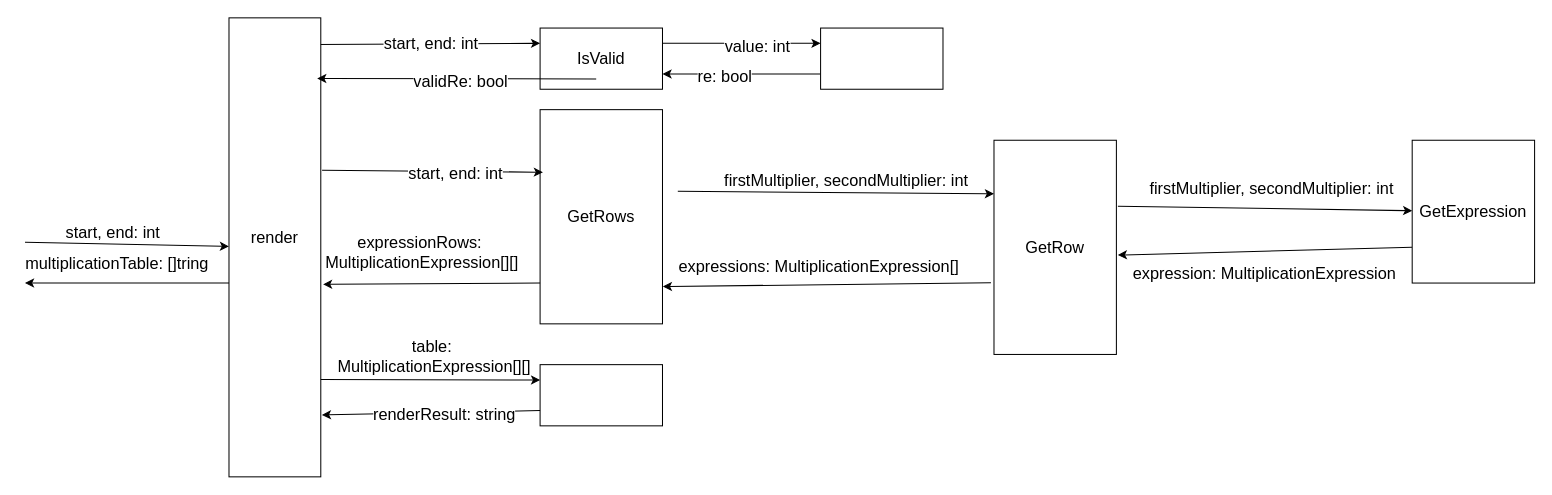
The diagram is 1552 pixels wide and 495 high, and some of its shapes have lost their labels. Here are the shapes that lost their labels. From the top down, the box of each, then its label:
(820, 27, 943, 89): InBoundary
(539, 364, 662, 426): RenderRows
